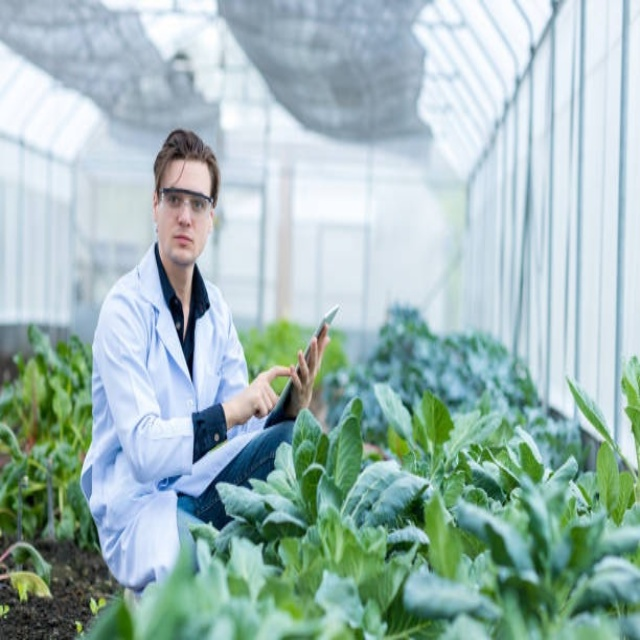Gafas: (157, 189, 214, 217)
Sin_guantes: (282, 324, 331, 417), (235, 353, 292, 422)
Sin_mascara: (167, 226, 193, 260)
